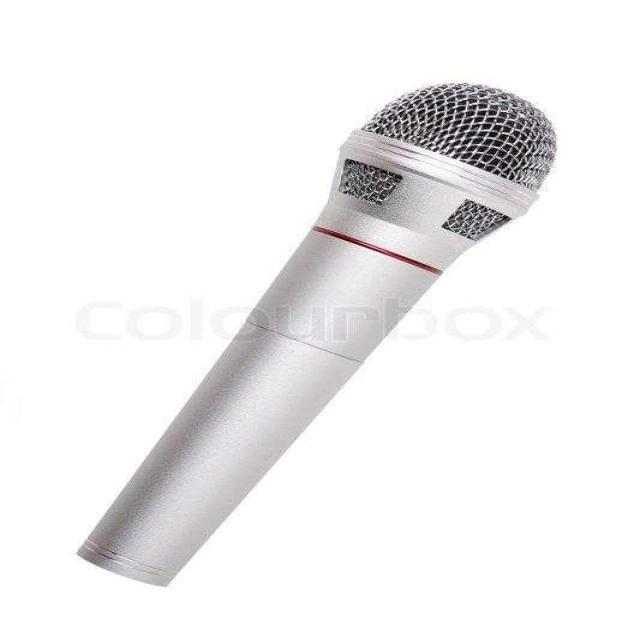microphone: (70, 69, 578, 612)
